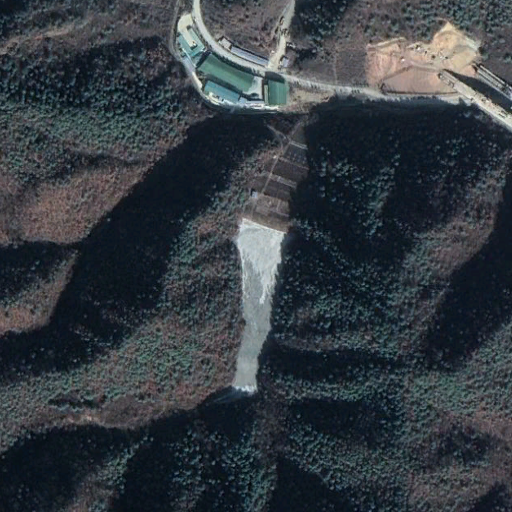tp: (233, 125, 306, 410)
